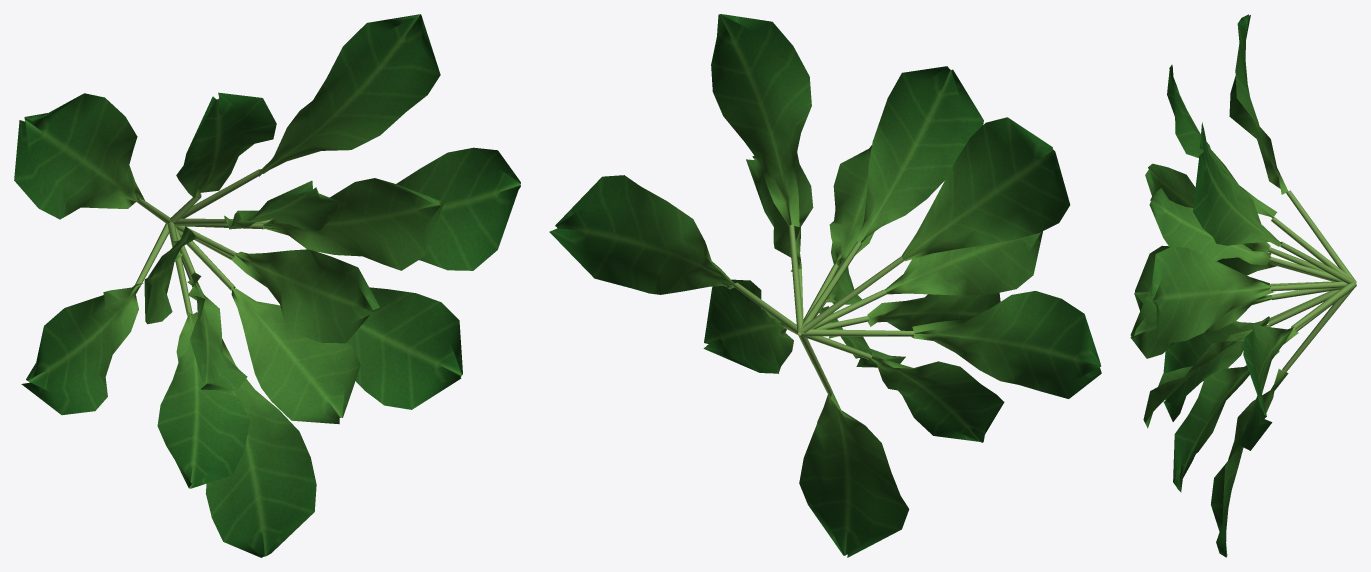
File: spinach.obj
The picture shows the model from 3 angles, left to right: view 1: azimuth 30°, elevation 25°; view 2: azimuth 150°, elevation 25°; view 3: azimuth 270°, elevation 25°; orthographic projection. The views are drawn at different scales.
Parts seen in each view (by area): view 1: spinach; view 2: spinach; view 3: spinach.
Part boxes in pixels (<box>): spinach: <box>14,14,520,557</box>; spinach: <box>549,14,1101,557</box>; spinach: <box>1130,14,1356,557</box>.
Bounding box in the file's own units: 0.2773 × 0.2585 × 0.1118.
2 materials, 1 textured.
